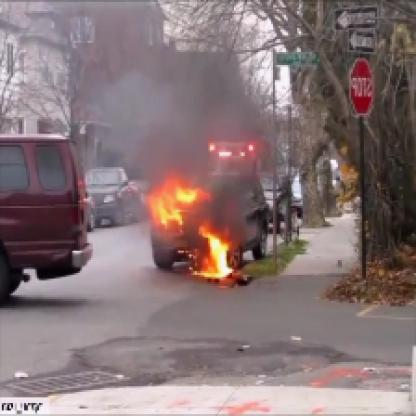Fire: (158, 167, 269, 292)
